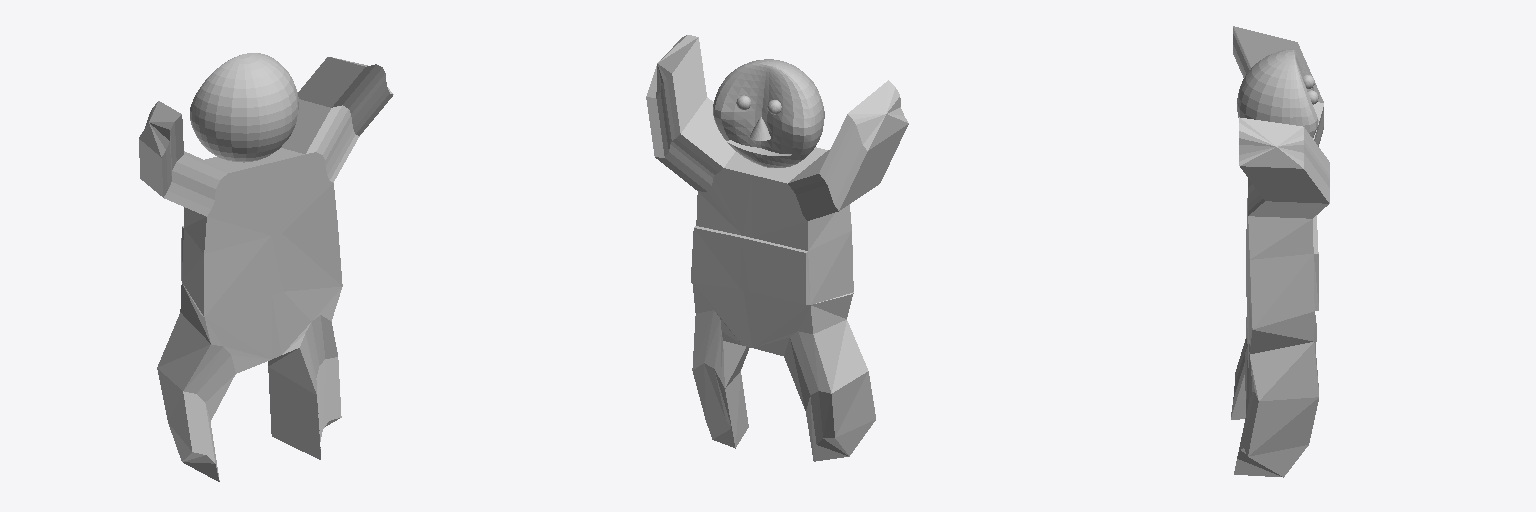
Rendered from man_000032.obj.
3 views of the same model, side by side, from view 1: azimuth 30°, elevation 25°; view 2: azimuth 150°, elevation 25°; view 3: azimuth 270°, elevation 25° (orthographic).
Parts seen in each view (by area): view 1: Cube; view 2: Cube; view 3: Cube.
Part boxes in pixels (x1,y1,x2,y2): Cube: (139,53,393,481); Cube: (646,35,908,461); Cube: (1231,26,1329,477).
Bounding box in the file's own units: 79.08 × 127 × 28.84.